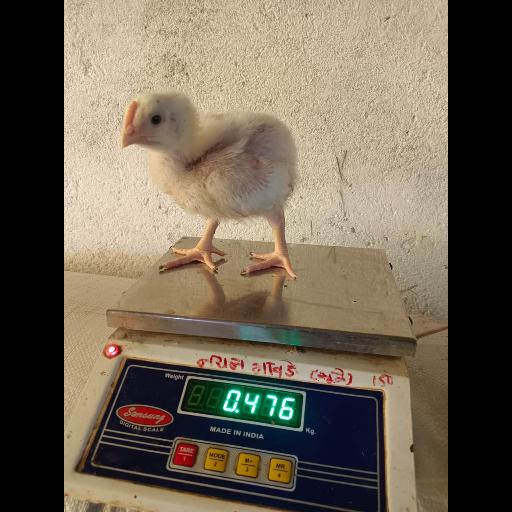chick: (121, 90, 297, 282)
